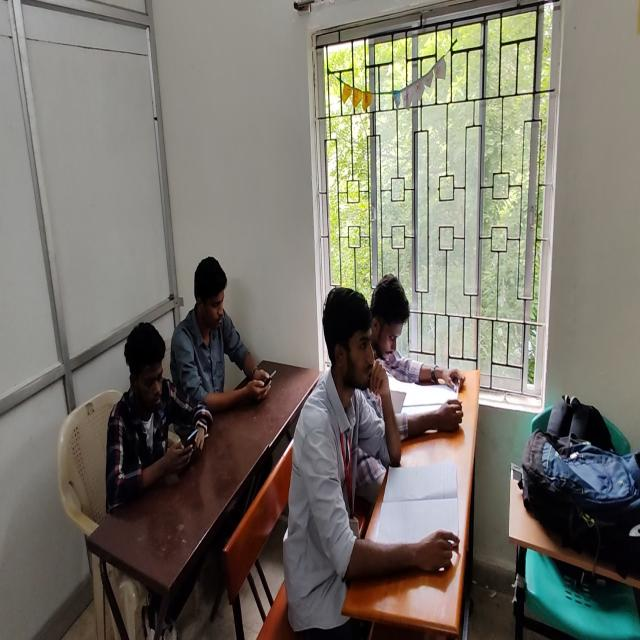reading: (300, 284, 450, 636), (374, 270, 466, 395)
using_mobile: (106, 320, 218, 516), (170, 255, 272, 439)
